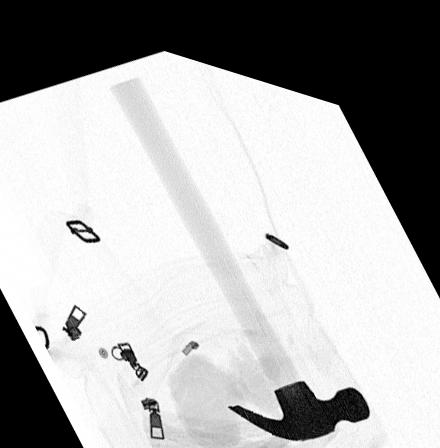Hammer: (107, 68, 371, 423)
